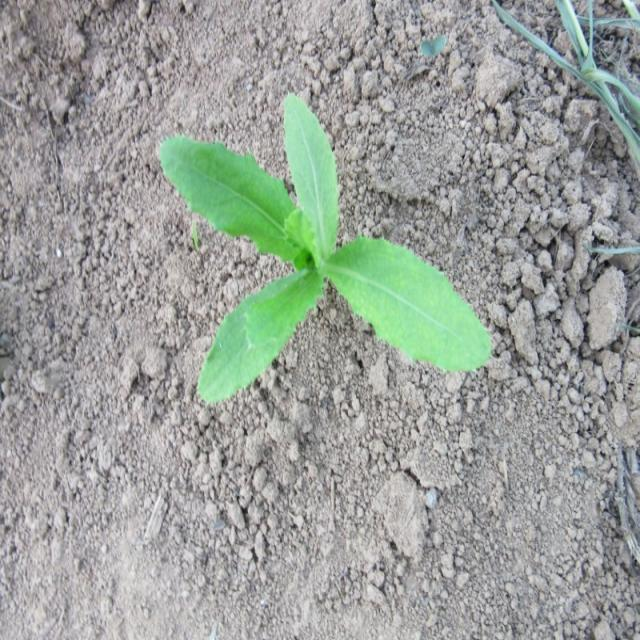cs: (160, 91, 492, 403)
